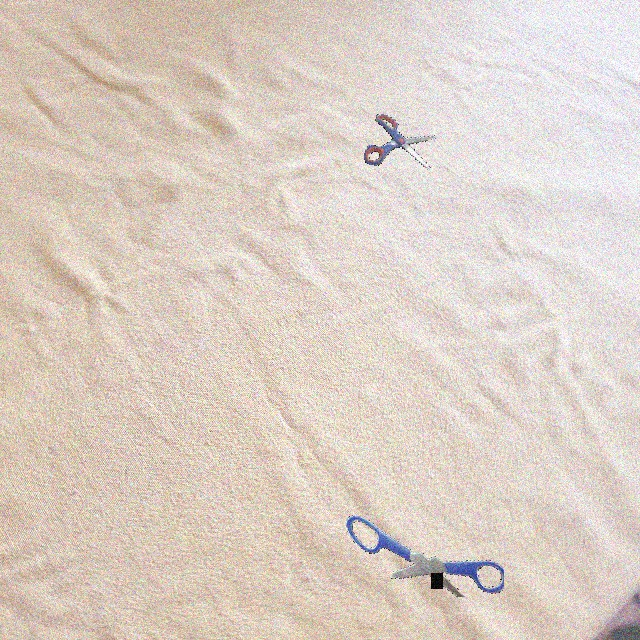scissors: (345, 515, 504, 597), (364, 114, 436, 170)
